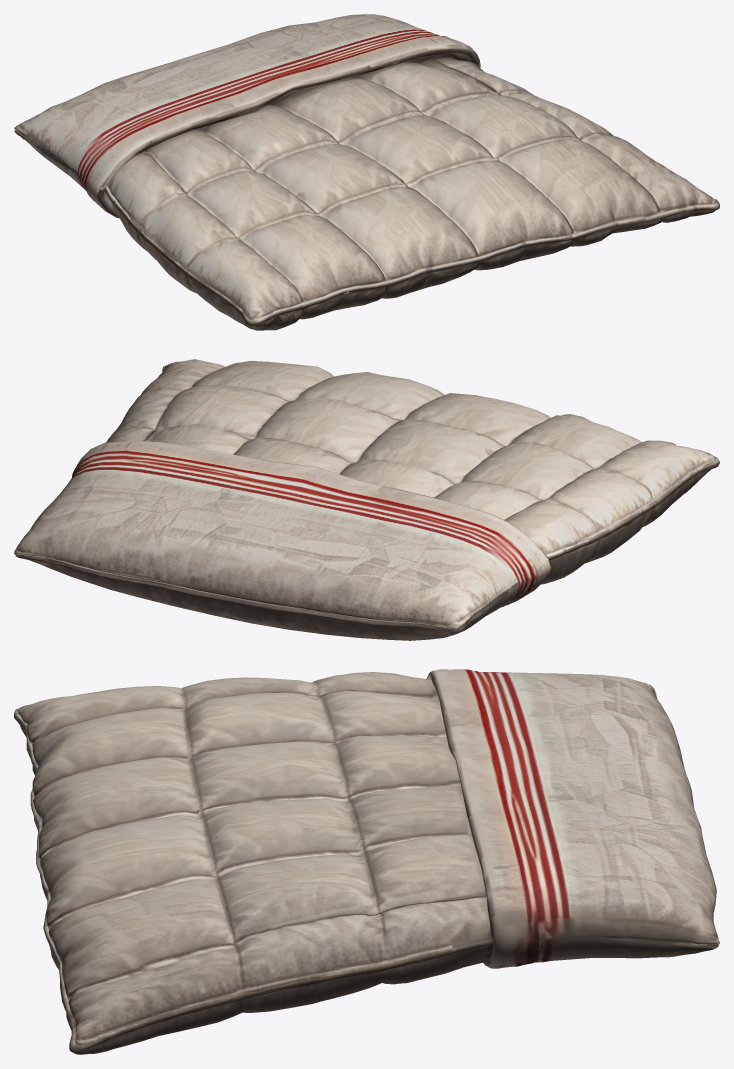
The model's file is act1_kit_v1_turned_down_quilt.glb.
The picture shows the model from 3 angles, top to bottom: view 1: azimuth 30°, elevation 25°; view 2: azimuth 150°, elevation 25°; view 3: azimuth 270°, elevation 25°; orthographic projection. The views are drawn at different scales.
Visible parts, largest first — view 1: act1_kit_v1_turned_down_quilt; view 2: act1_kit_v1_turned_down_quilt; view 3: act1_kit_v1_turned_down_quilt.
Part boxes in pixels (<box>): act1_kit_v1_turned_down_quilt: <box>14,14,719,330</box>; act1_kit_v1_turned_down_quilt: <box>14,359,719,640</box>; act1_kit_v1_turned_down_quilt: <box>14,669,719,1054</box>.
Bounding box in the file's own units: 1 × 0.2003 × 0.9323.
Materials: 1 (1 with a texture image).
